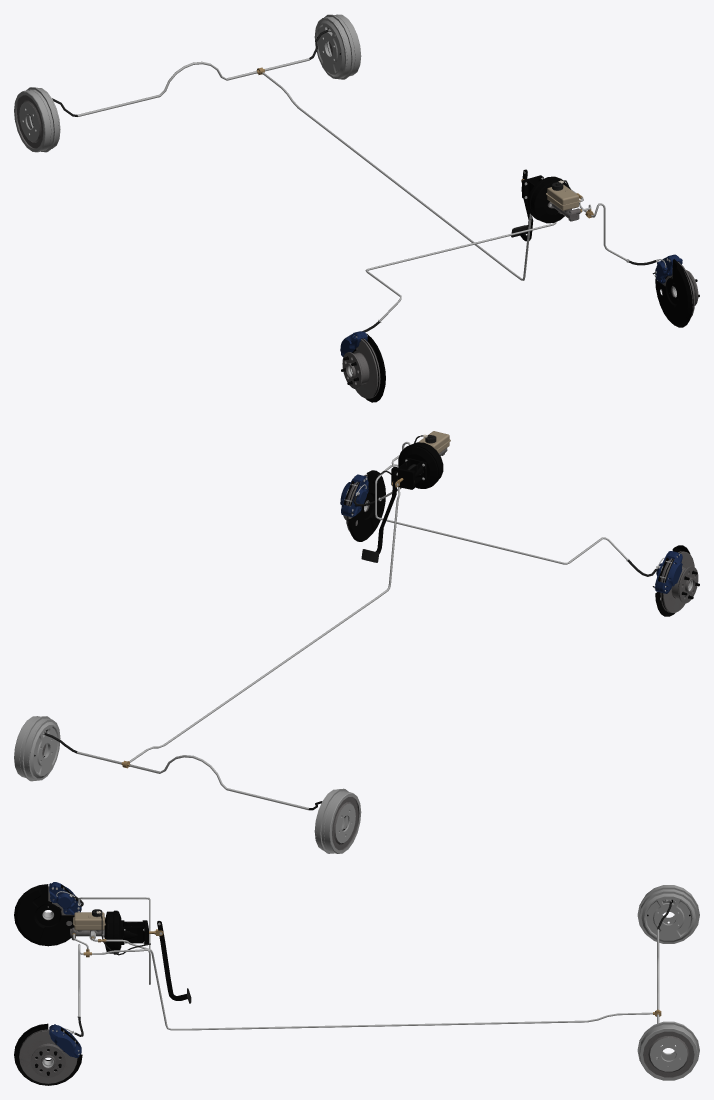
File: tcc_models-full_brakes.glb
3 views of the same model, one above another, from view 1: azimuth 30°, elevation 25°; view 2: azimuth 150°, elevation 25°; view 3: azimuth 270°, elevation 25° (orthographic). The views are drawn at different scales.
Visible parts, largest first — view 1: disco_frente, tambor_tras; view 2: disco_frente, tambor_tras; view 3: disco_frente, tambor_tras.
Part boxes in pixels (<box>): disco_frente: <box>340,169,699,402</box>; tambor_tras: <box>14,14,583,280</box>; disco_frente: <box>340,431,699,616</box>; tambor_tras: <box>14,455,400,853</box>; disco_frente: <box>14,882,191,1085</box>; tambor_tras: <box>91,885,699,1080</box>.
Bounding box in the file's own units: 1.48 × 0.5931 × 2.73.
Materials: 5 (5 with a texture image).
